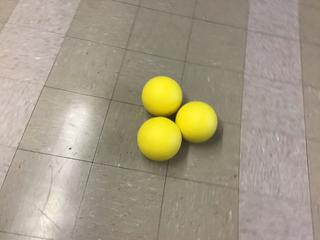power_cell: (136, 116, 183, 163), (175, 100, 223, 146), (139, 75, 185, 118)
